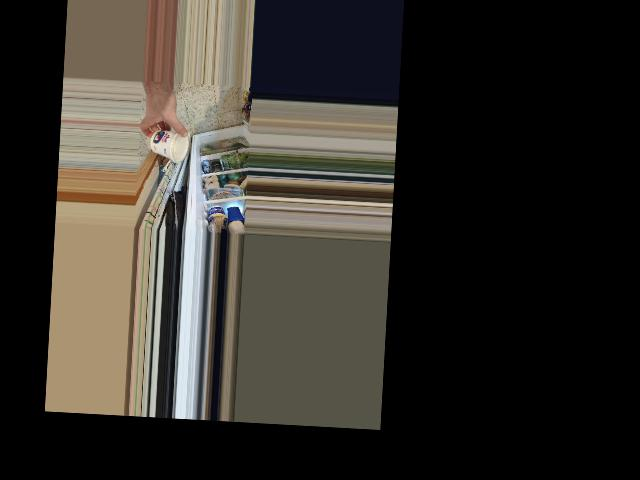cotage: (148, 126, 188, 160)
